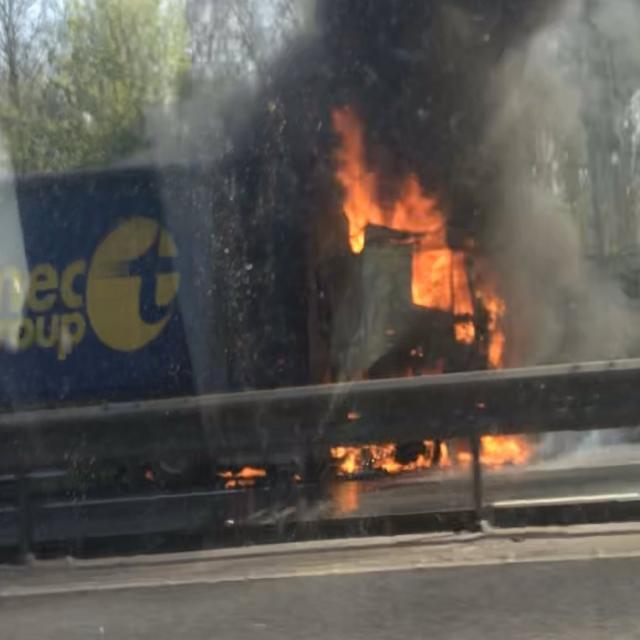Fire: (332, 100, 386, 256), (388, 172, 446, 246), (414, 248, 476, 314), (480, 286, 507, 366), (370, 442, 437, 474), (482, 436, 530, 466), (220, 466, 268, 489), (440, 442, 475, 468), (332, 448, 364, 476), (456, 319, 476, 343), (422, 359, 447, 375), (404, 366, 416, 379)
Smoke: (364, 2, 640, 170), (504, 168, 640, 372), (137, 45, 330, 166), (528, 426, 640, 469), (326, 5, 368, 110)
